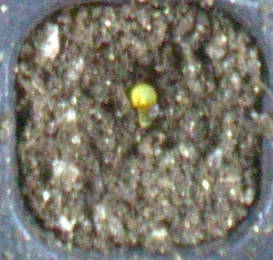pepper seed: (53, 29, 210, 137)
